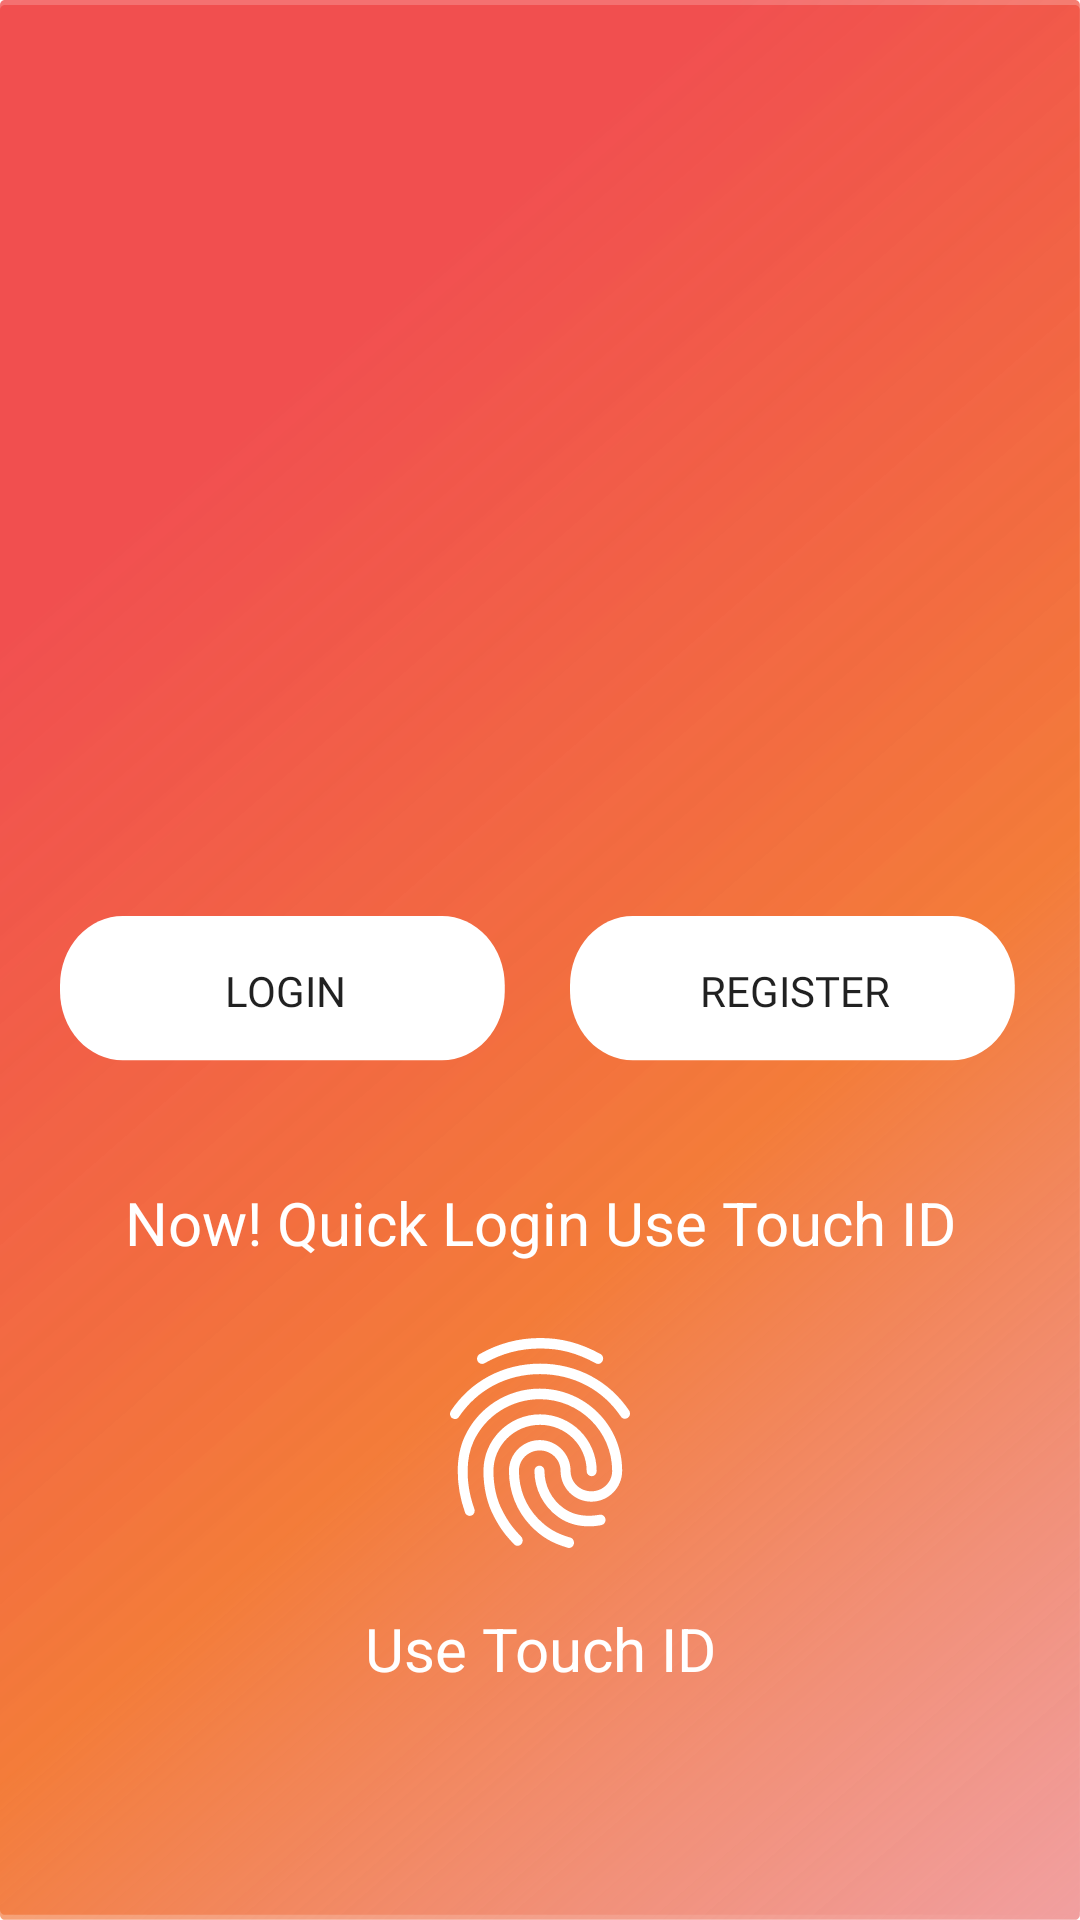

Where to tap for icons on this 1080 x 1920 app screen, as point (x, y):
vantay: point (540, 1443)
